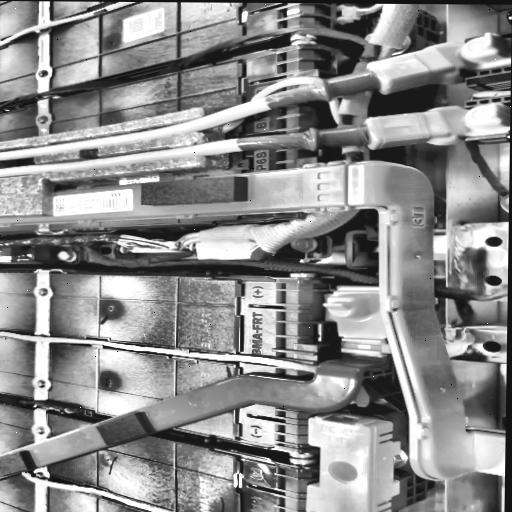busbar: (0, 158, 506, 484), (0, 285, 387, 479)
high_volt_cable: (0, 26, 512, 177), (0, 325, 379, 407), (3, 469, 203, 512), (0, 1, 148, 49)
low_volt_cable: (0, 16, 377, 112)
